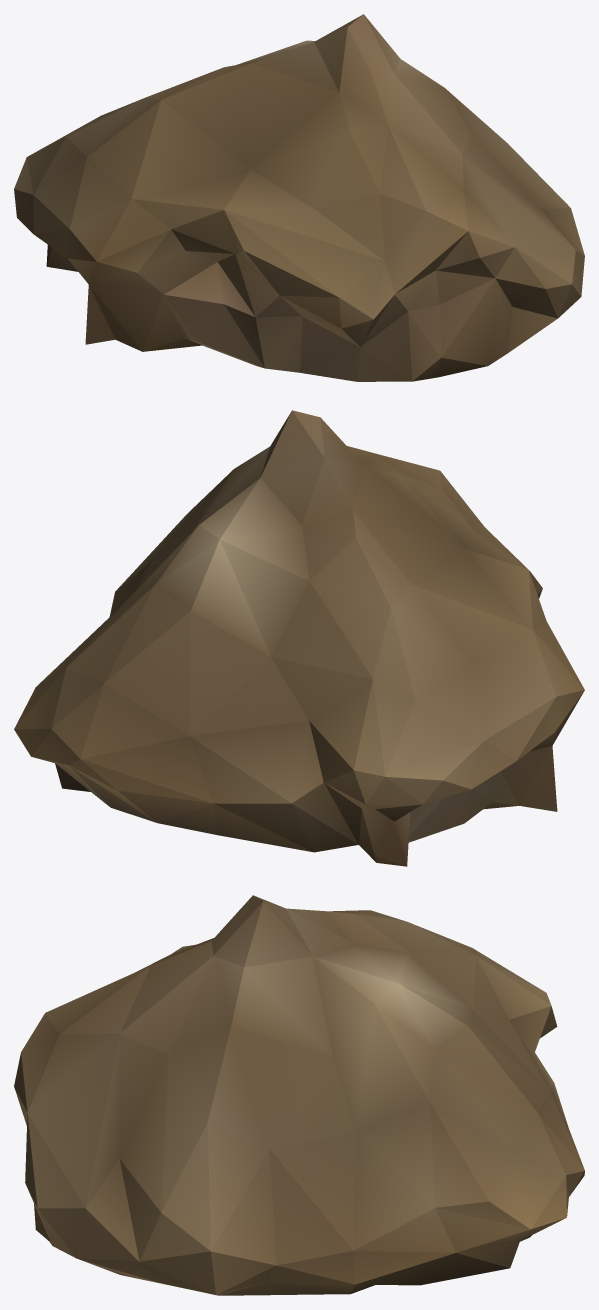
The model's file is hunter.glb.
3 renders of one model, top to bottom at view 1: azimuth 30°, elevation 25°; view 2: azimuth 150°, elevation 25°; view 3: azimuth 270°, elevation 25°, orthographic. The views are drawn at different scales.
Visible parts, largest first — view 1: model.001; view 2: model.001; view 3: model.001.
Boxes of the visible parts, x1=… form: model.001: x1=14, y1=14, x2=584, y2=381; model.001: x1=14, y1=410, x2=584, y2=866; model.001: x1=14, y1=895, x2=584, y2=1295.
Bounding box in the file's own units: 0.9976 × 0.6335 × 0.9852.
